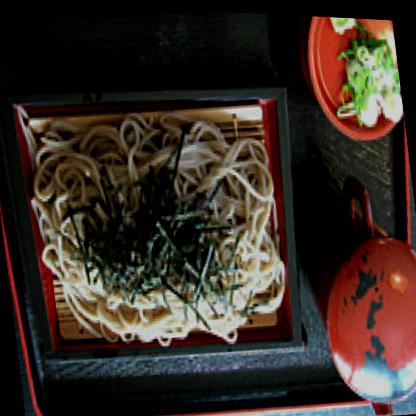memil soba: (22, 79, 301, 370)
